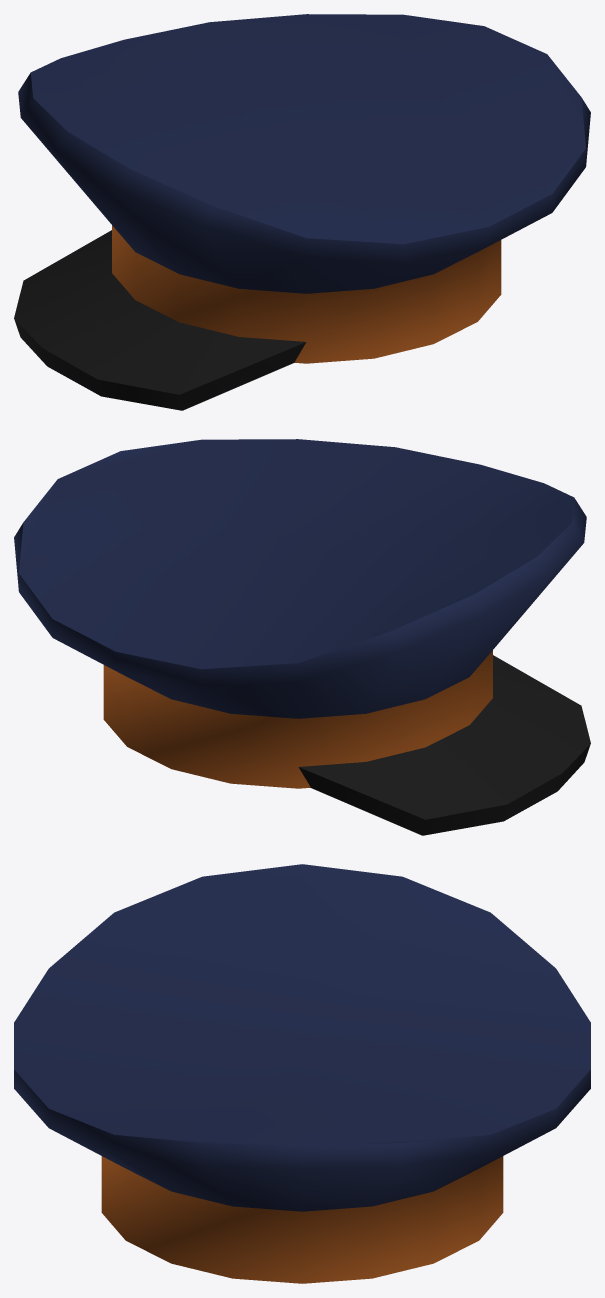
The model's file is Шапка1.FBX.
The picture shows the model from 3 angles, top to bottom: view 1: azimuth 30°, elevation 25°; view 2: azimuth 150°, elevation 25°; view 3: azimuth 270°, elevation 25°; orthographic projection. The views are drawn at different scales.
Parts seen in each view (by area): view 1: Cylinder288; view 2: Cylinder288; view 3: Cylinder288.
Part boxes in pixels (x1,y1,x2,y2): Cylinder288: (14,14,590,410); Cylinder288: (14,439,590,835); Cylinder288: (14,864,590,1283).
Bounding box in the file's own units: 49.68 × 21.54 × 46.76.
